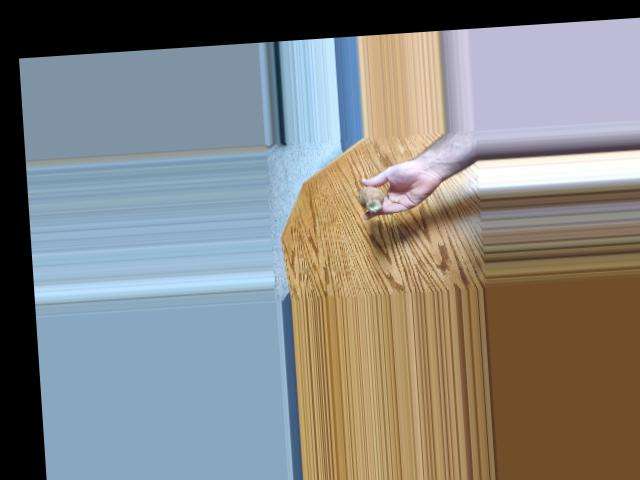sweet_potato: (355, 184, 384, 211)
